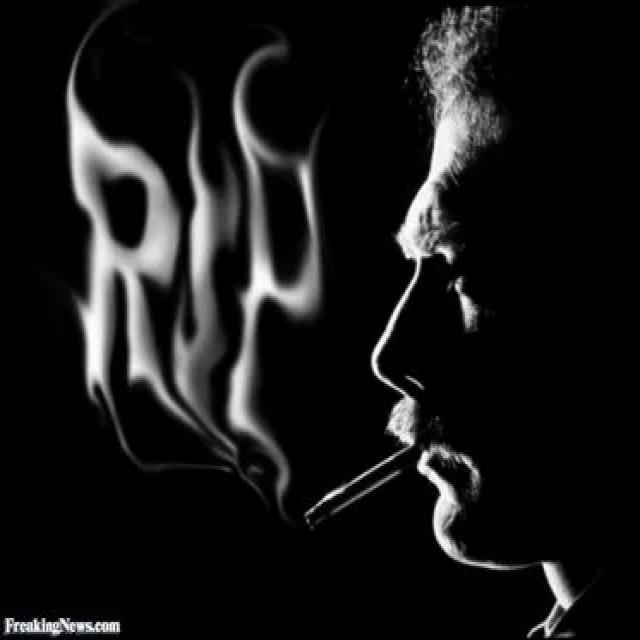smoke: (304, 440, 422, 534)
